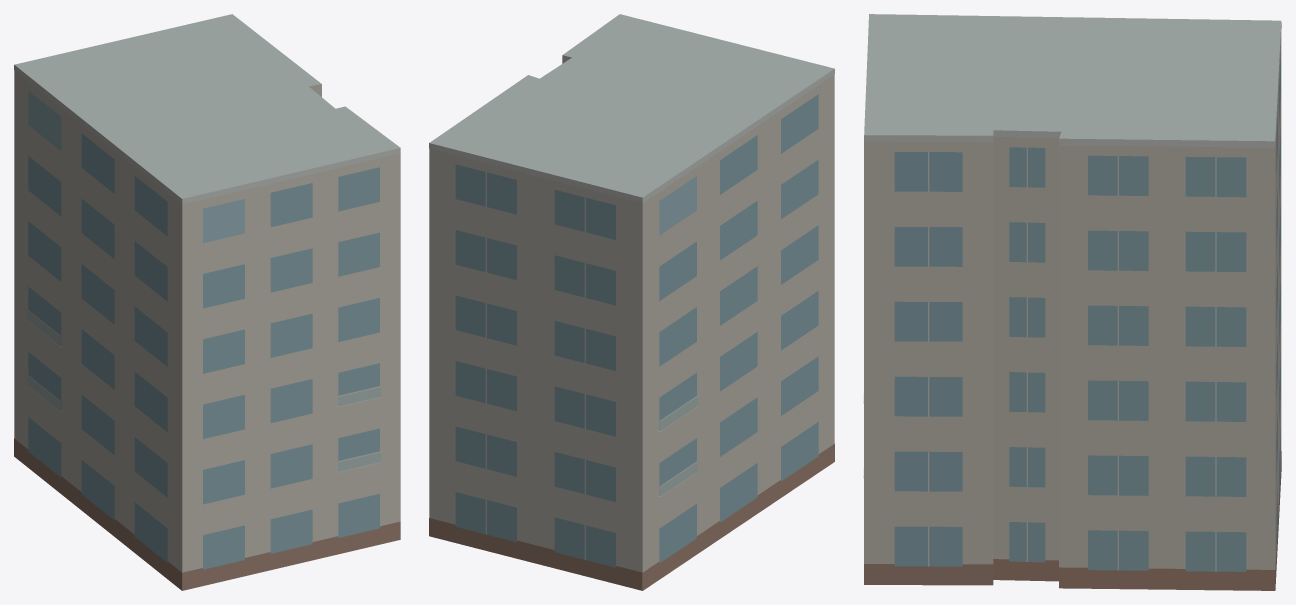
Rendered from survey-upis-32564998.glb.
The picture shows the model from 3 angles, left to right: view 1: azimuth 30°, elevation 25°; view 2: azimuth 150°, elevation 25°; view 3: azimuth 270°, elevation 25°; orthographic projection. The views are drawn at different scales.
Visible parts, largest first — view 1: survey-upis-32564998.tmp; view 2: survey-upis-32564998.tmp; view 3: survey-upis-32564998.tmp.
Boxes of the visible parts, left/top/right/bottom form: survey-upis-32564998.tmp: left=14, top=14, right=400, bottom=590; survey-upis-32564998.tmp: left=429, top=14, right=834, bottom=590; survey-upis-32564998.tmp: left=863, top=14, right=1281, bottom=590.
Size of the model in its own units: 10.2 by 16.8 by 14.16.
